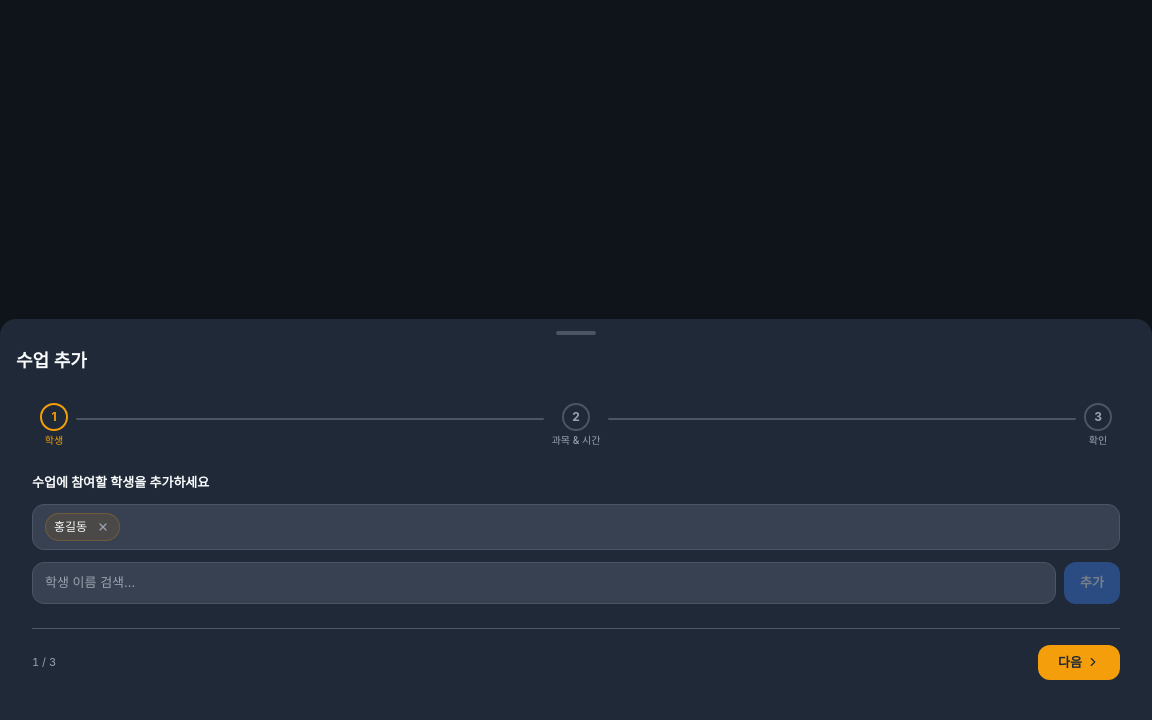
GroupSessionModal - 강사·과목 인라인 추가 › 과목 '+' 클릭 시 인라인 row가 표시된다
Click the button "다음": (1079, 662) x1=1038 y1=644 x2=1120 y2=680
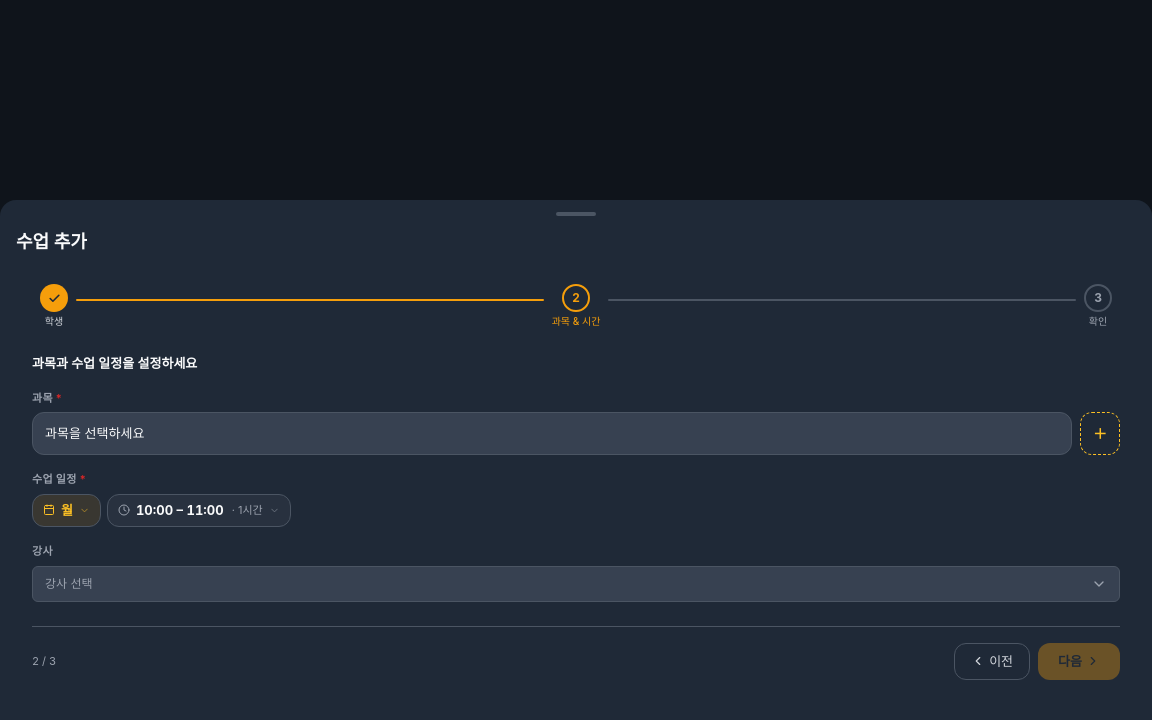
Click the button named "새 과목 추가": (1100, 434) x1=1080 y1=412 x2=1120 y2=455
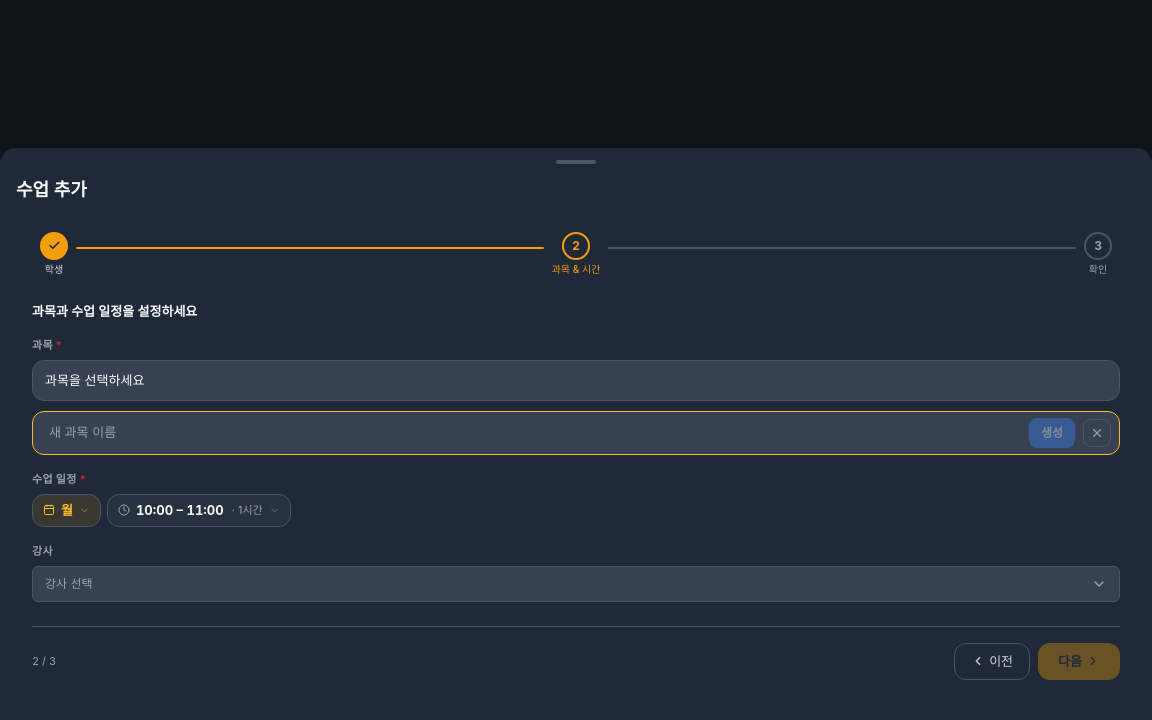
Check: the field with placeholder "새 과목 이름" is shown, box x1=41 y1=419 x2=1021 y2=447
